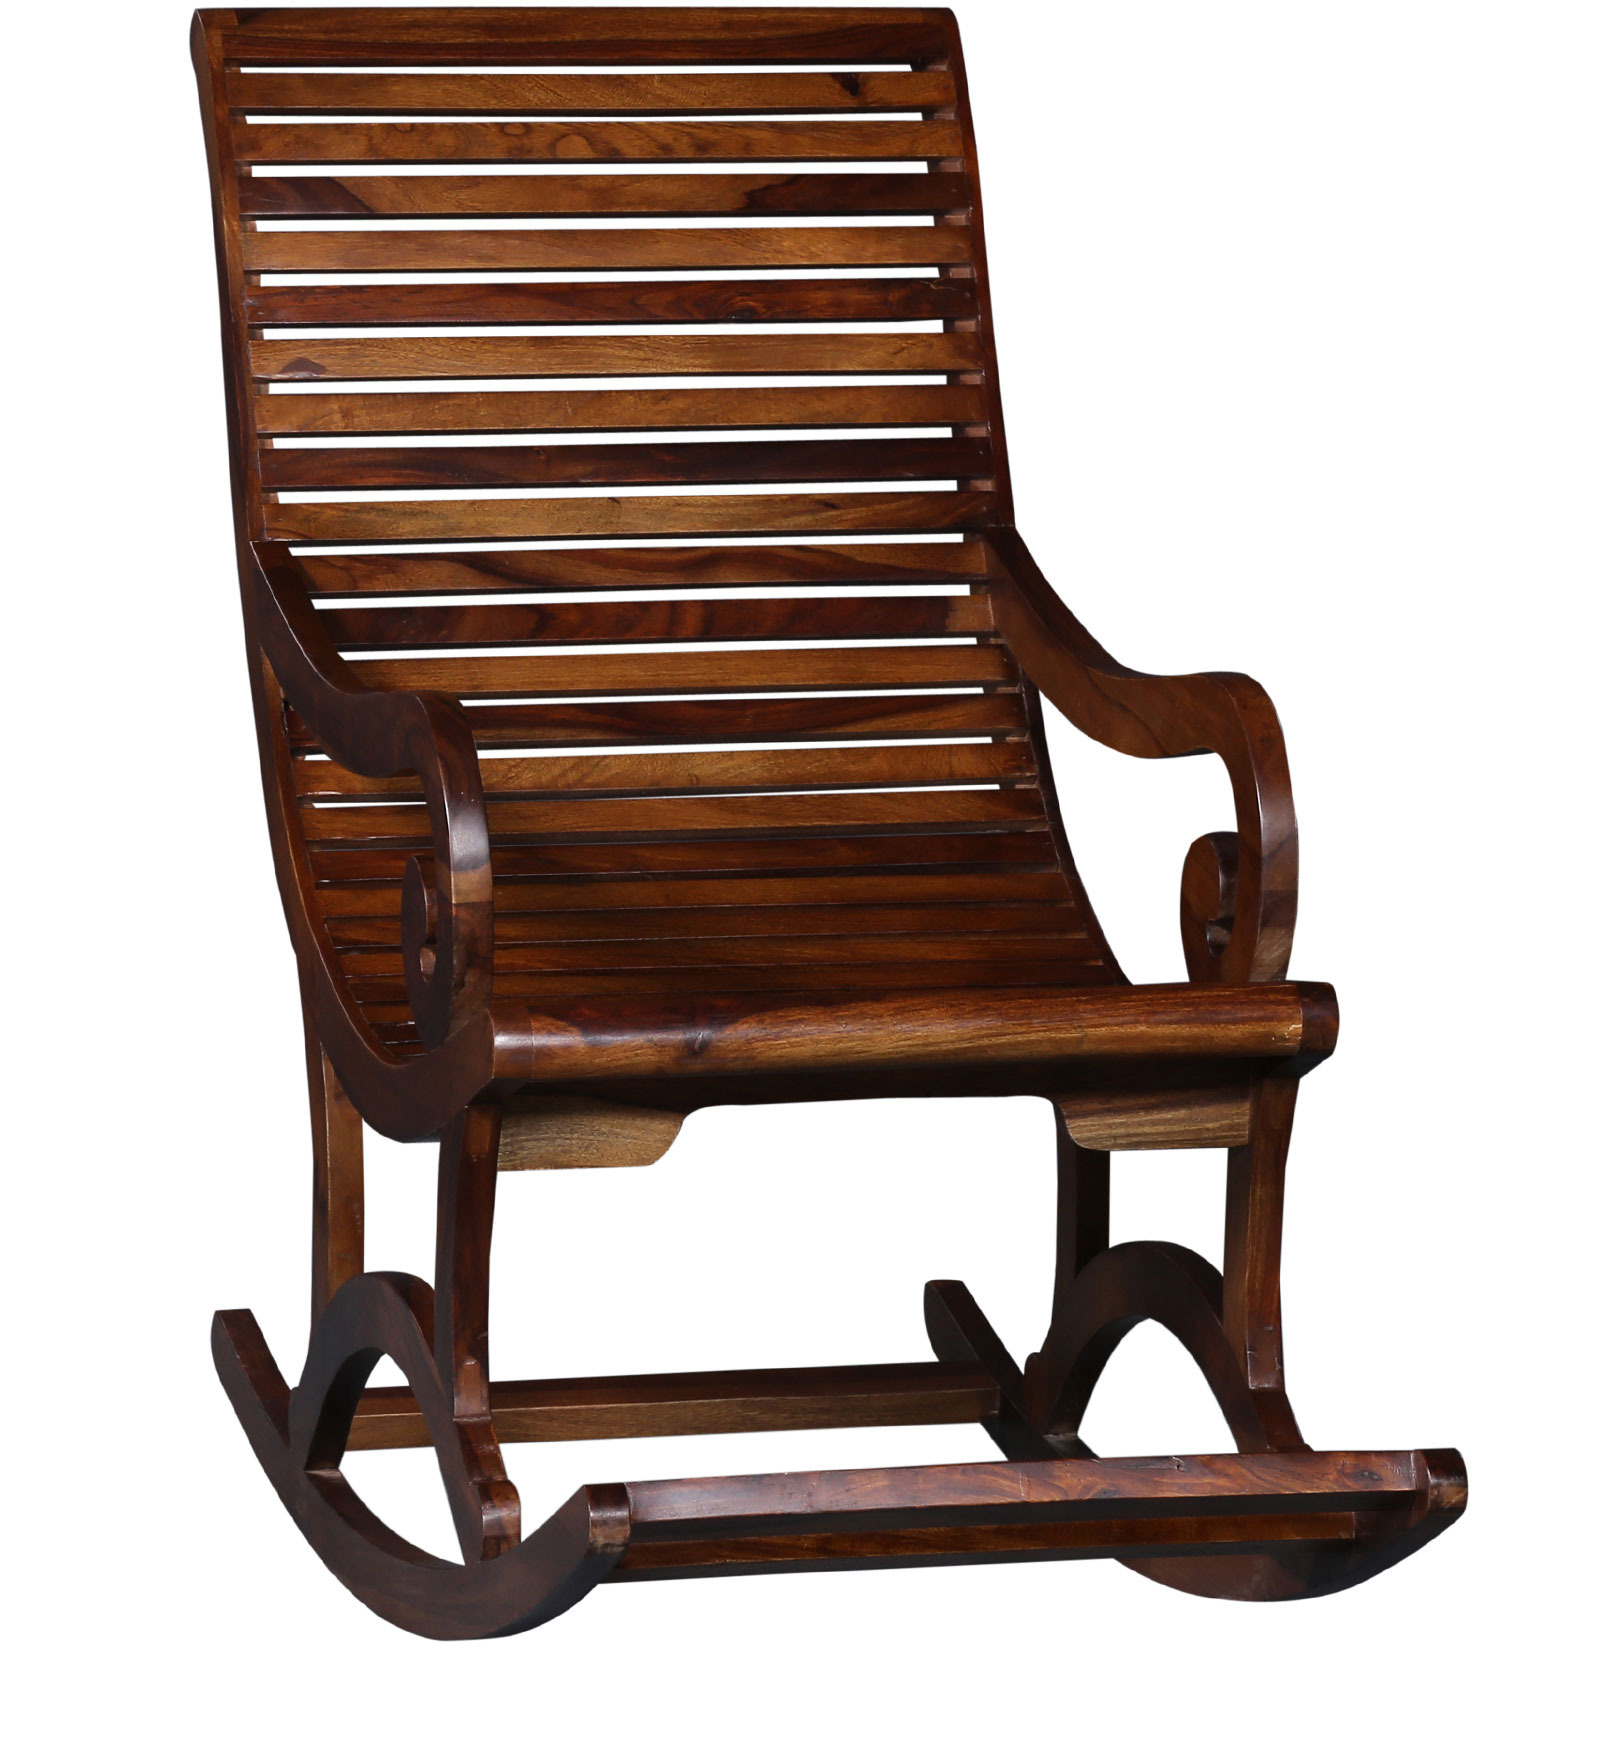Wellesley Rocking Chair in Provincial Teak Finish by Amberville: (123, 14, 1507, 1680)
